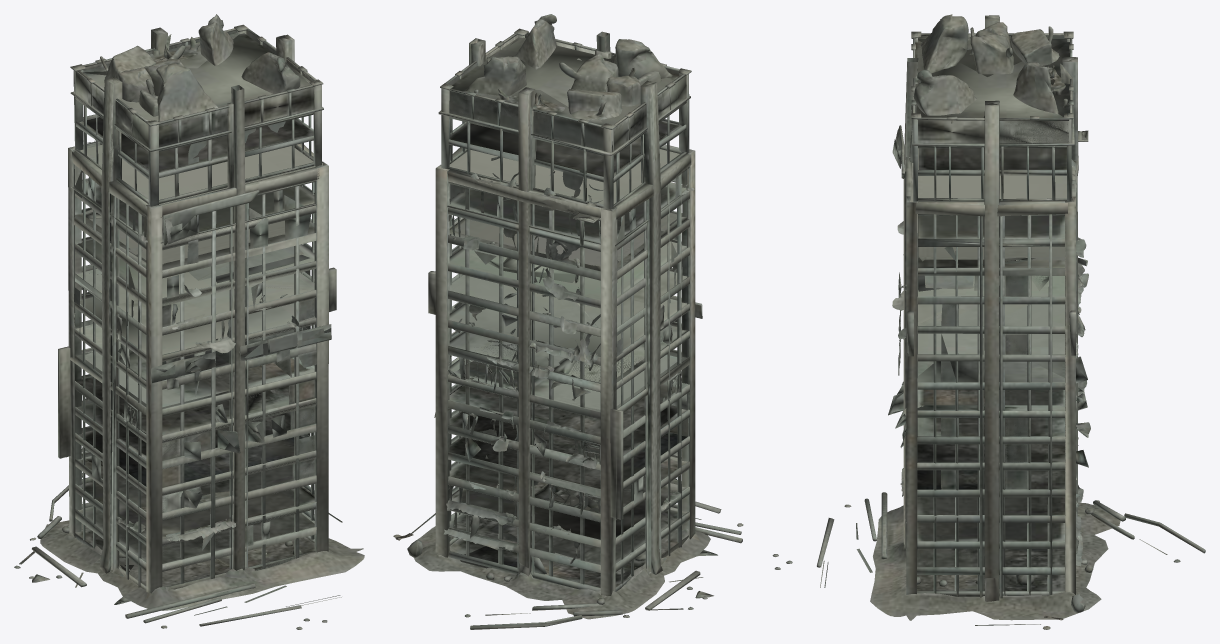
File: office-ruined-tower.glb
3 views of the same model, side by side, from view 1: azimuth 30°, elevation 25°; view 2: azimuth 150°, elevation 25°; view 3: azimuth 270°, elevation 25° (orthographic). The views are drawn at different scales.
Visible parts, largest first — view 1: ruined-tower; view 2: ruined-tower; view 3: ruined-tower.
Part boxes in pixels (<box>): ruined-tower: <box>14,14,364,629</box>; ruined-tower: <box>393,14,743,629</box>; ruined-tower: <box>772,14,1205,629</box>.
Bounding box in the file's own units: 37.2 × 60 × 45.24.
1 material, 1 textured.
